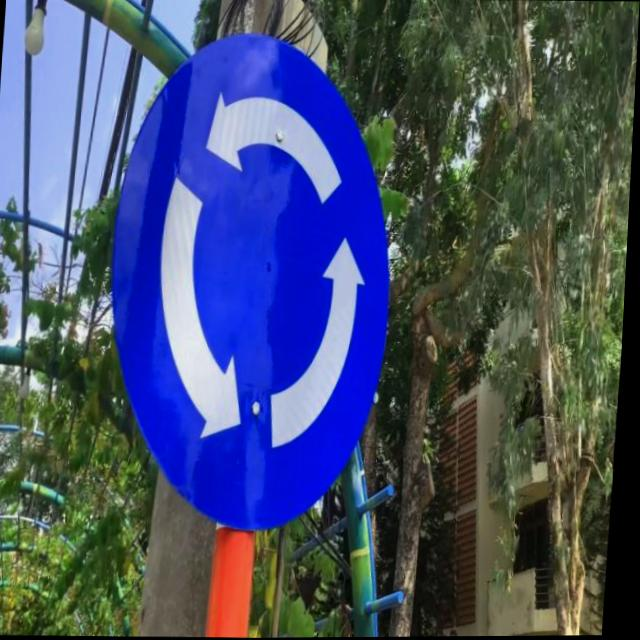Noi giao nhau chay theo vong xuyen: (92, 15, 415, 556)
